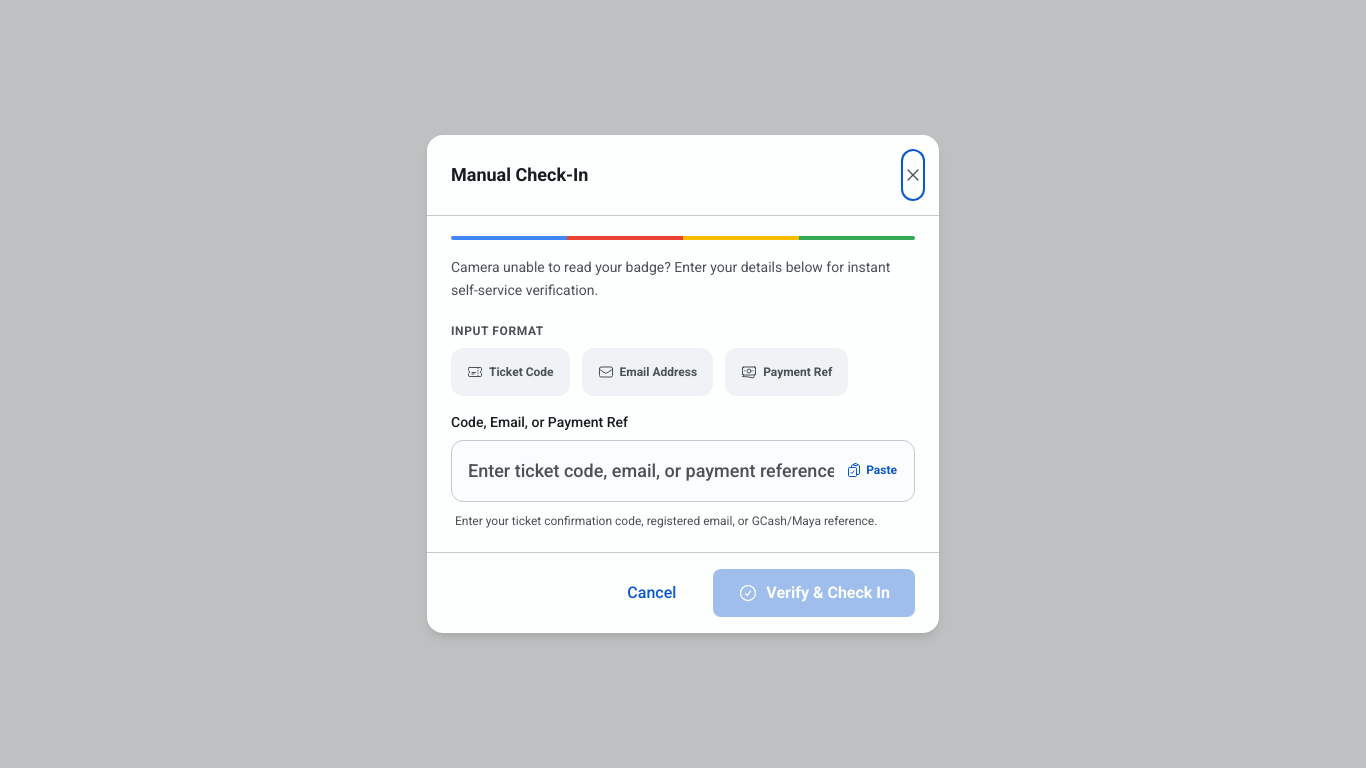
KioskManualCodeModal Component (DOM) › clears input and resets detection when clicking the Clear button
The width and height of the screenshot is (1366, 768).
Type "REG-12345" into the field at (683, 471), box [451,440,915,502]
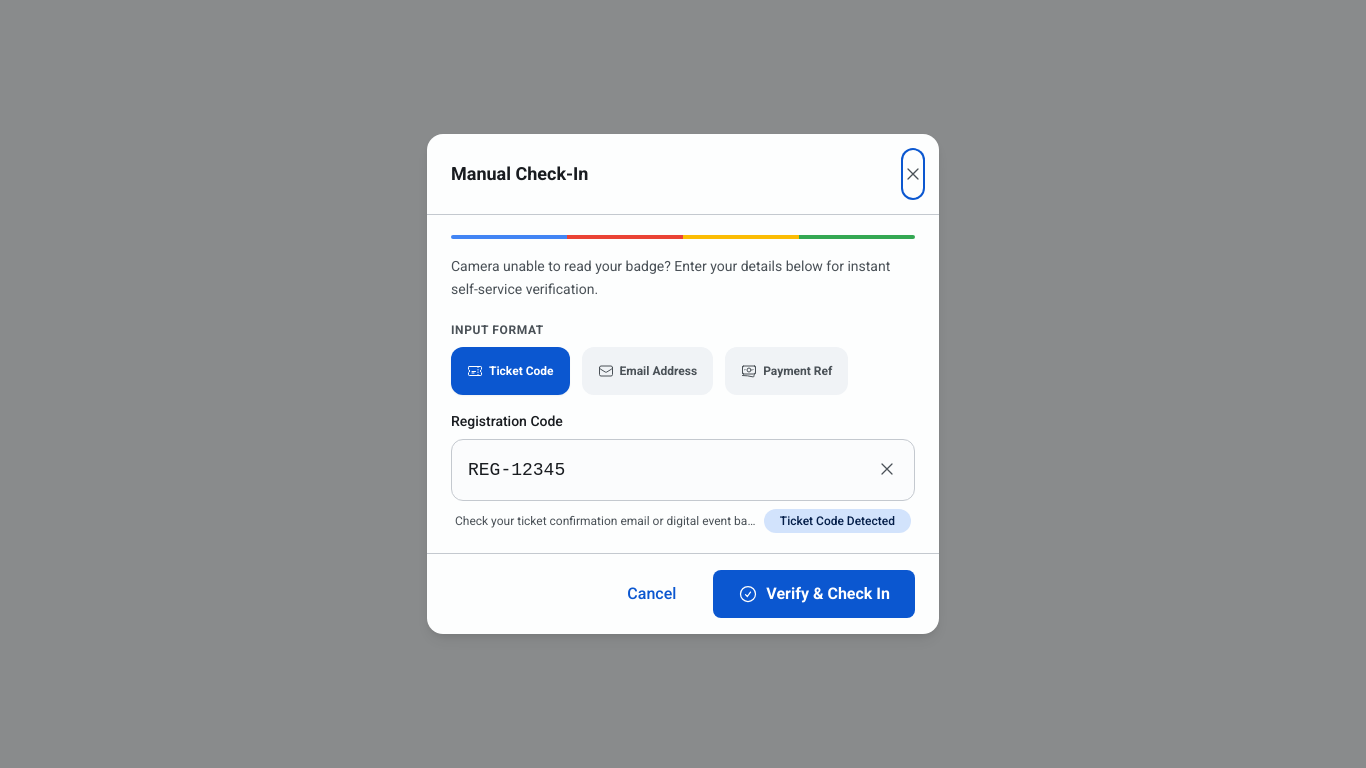
Now the button named "clear input" is shown
Click the button named "clear input" at (887, 469), box [867,445,907,493]
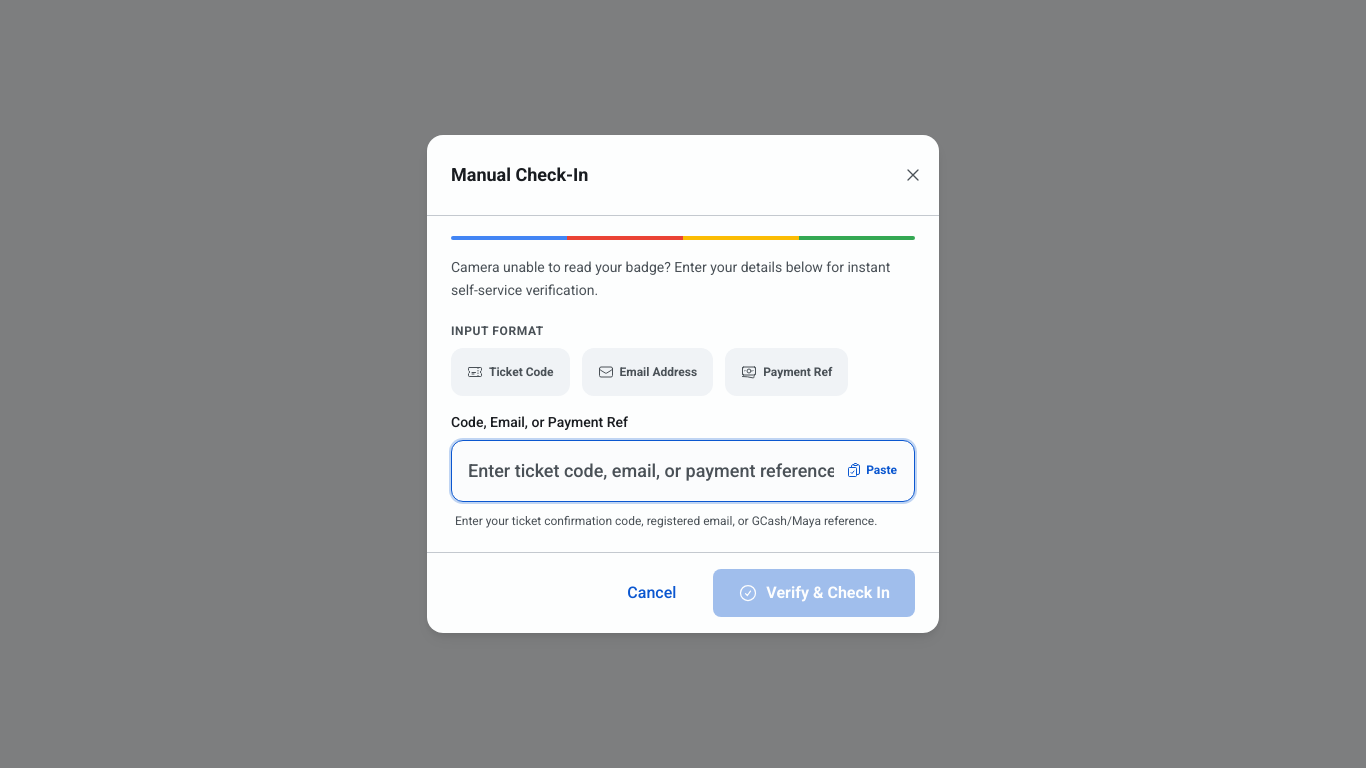
Now the field is empty, box [451,440,915,502]
Now the text "Ticket Code Detected" is gone
